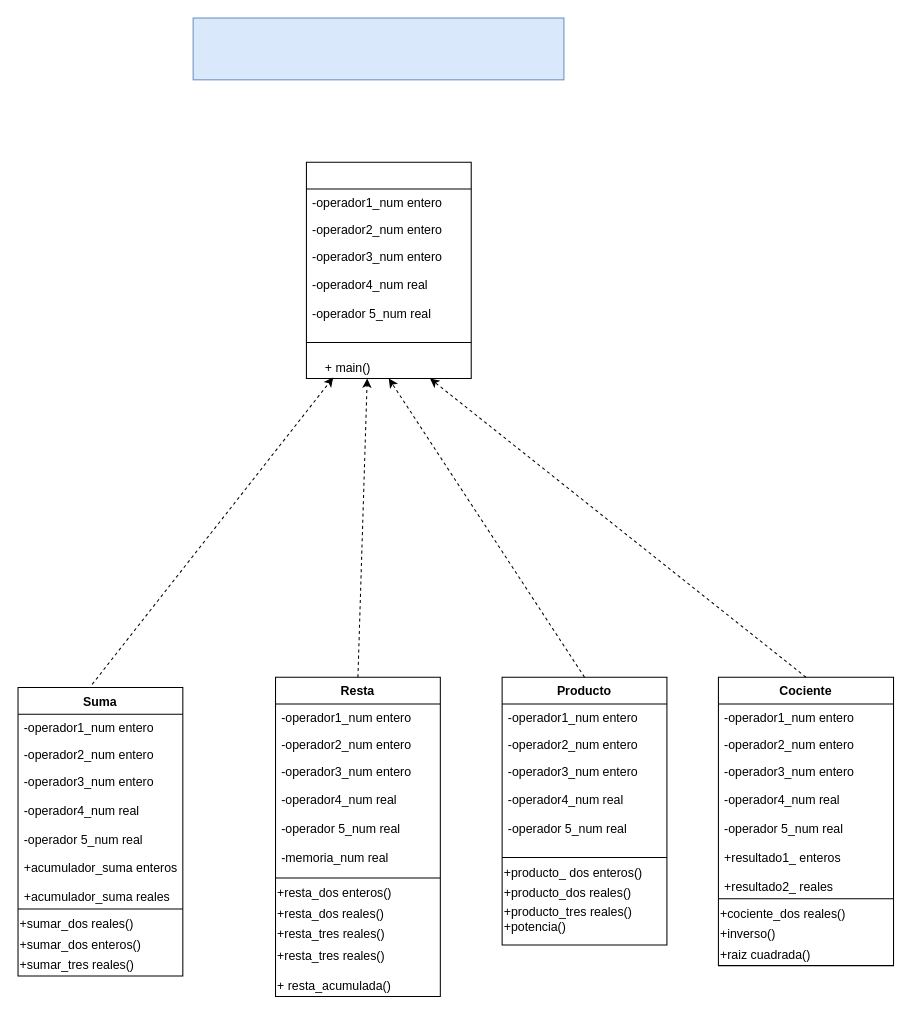
Image size: 912x1015. Some labels were removed from this diagram. Each missing label, with the box of its shape:
Principal: (305, 161, 471, 379)
Relación de dependencia: (192, 17, 564, 80)
